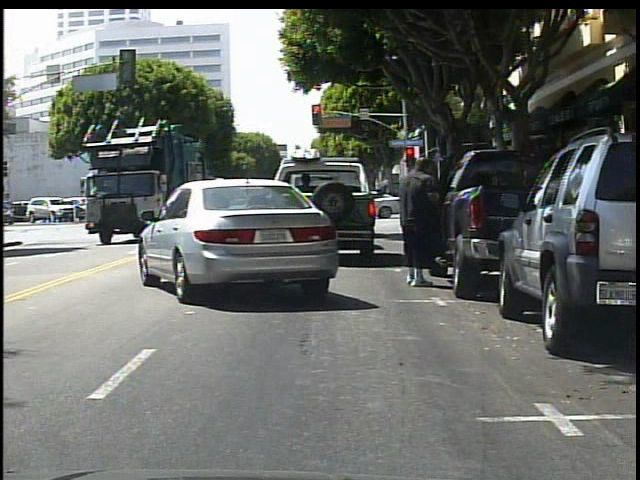person: (394, 152, 451, 289)
